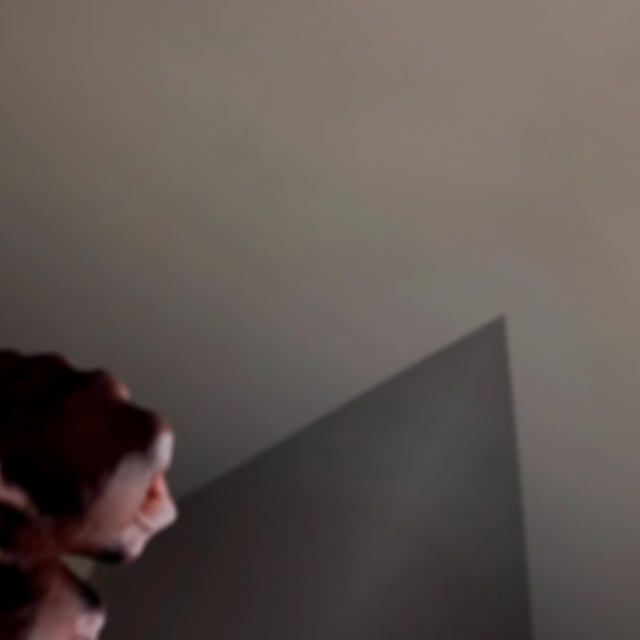Rock: (0, 272, 229, 597)
